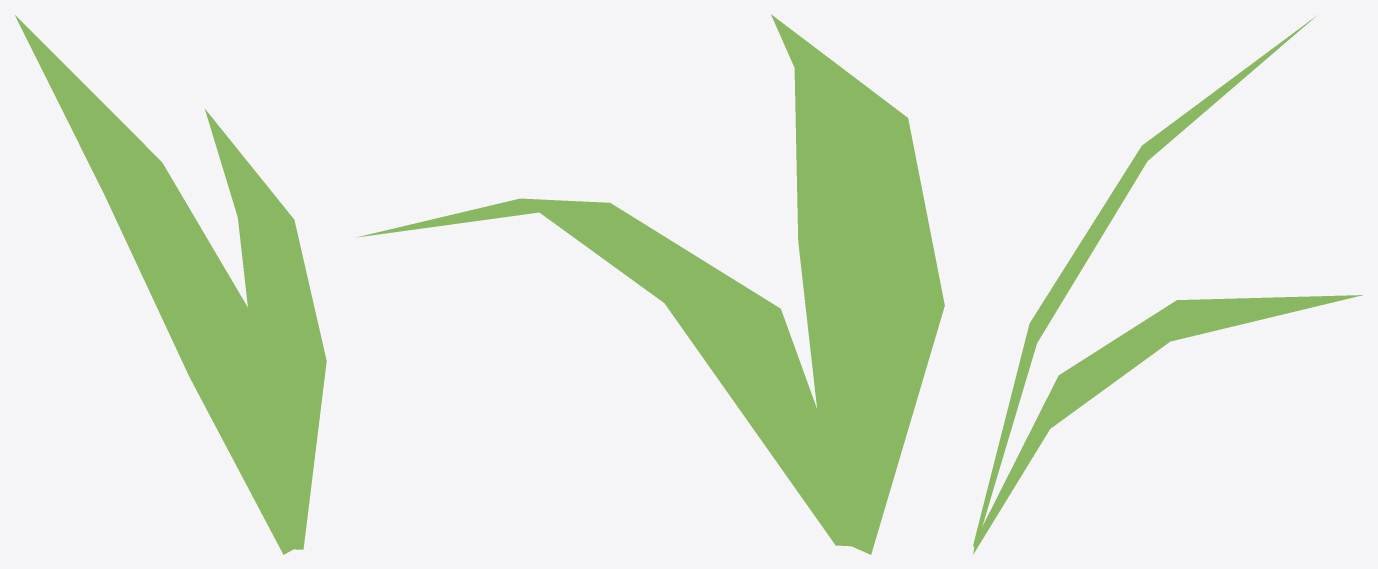
The model's file is Plant_e_OneS_02.fbx.
3 views of the same model, side by side, from view 1: azimuth 30°, elevation 25°; view 2: azimuth 150°, elevation 25°; view 3: azimuth 270°, elevation 25° (orthographic). The views are drawn at different scales.
Visible parts, largest first — view 1: Plant_e_OneS_02; view 2: Plant_e_OneS_02; view 3: Plant_e_OneS_02.
Part boxes in pixels (<box>): Plant_e_OneS_02: <box>15,15,326,554</box>; Plant_e_OneS_02: <box>356,14,944,554</box>; Plant_e_OneS_02: <box>973,15,1362,554</box>.
Bounding box in the file's own units: 0.2615 × 0.5292 × 0.3939.
